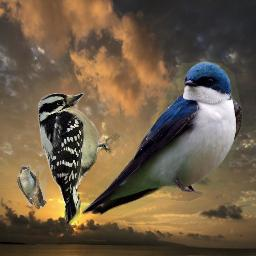Swallow: (81, 61, 243, 216), (17, 165, 47, 210)
Woodpecker: (36, 90, 120, 227)
